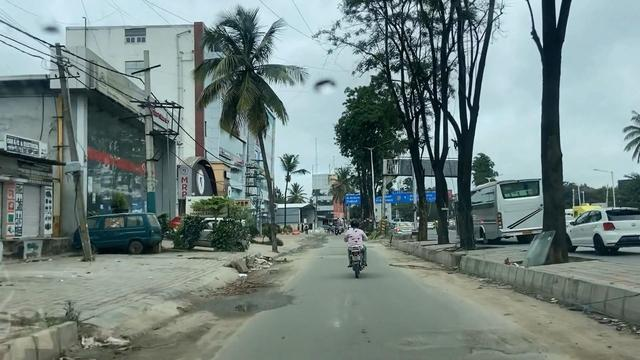LMV: (342, 219, 372, 274)
RoadDamages: (391, 307, 557, 360), (191, 281, 293, 317), (392, 256, 440, 275)
